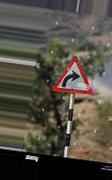right: (51, 57, 94, 94)
